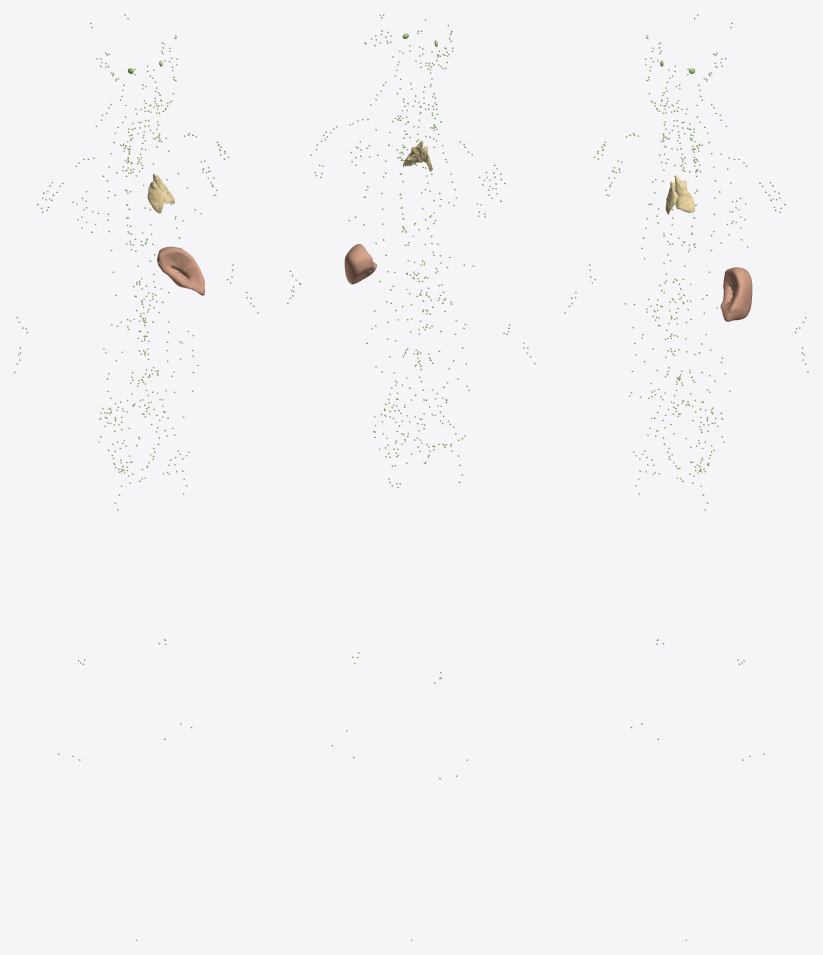
File: lymphoid.glb
3 renders of one model, left to right at view 1: azimuth 30°, elevation 25°; view 2: azimuth 150°, elevation 25°; view 3: azimuth 330°, elevation 25°, orthographic.
Visible parts, largest first — view 1: Spleen; view 2: Spleen; view 3: Spleen.
Boxes of the visible parts, x1,y1,x2,y2 form: Spleen: (157,246,204,295); Spleen: (344,244,376,284); Spleen: (720,267,752,321).
Bounding box in the file's own units: 0.463 × 1.63 × 0.201.
